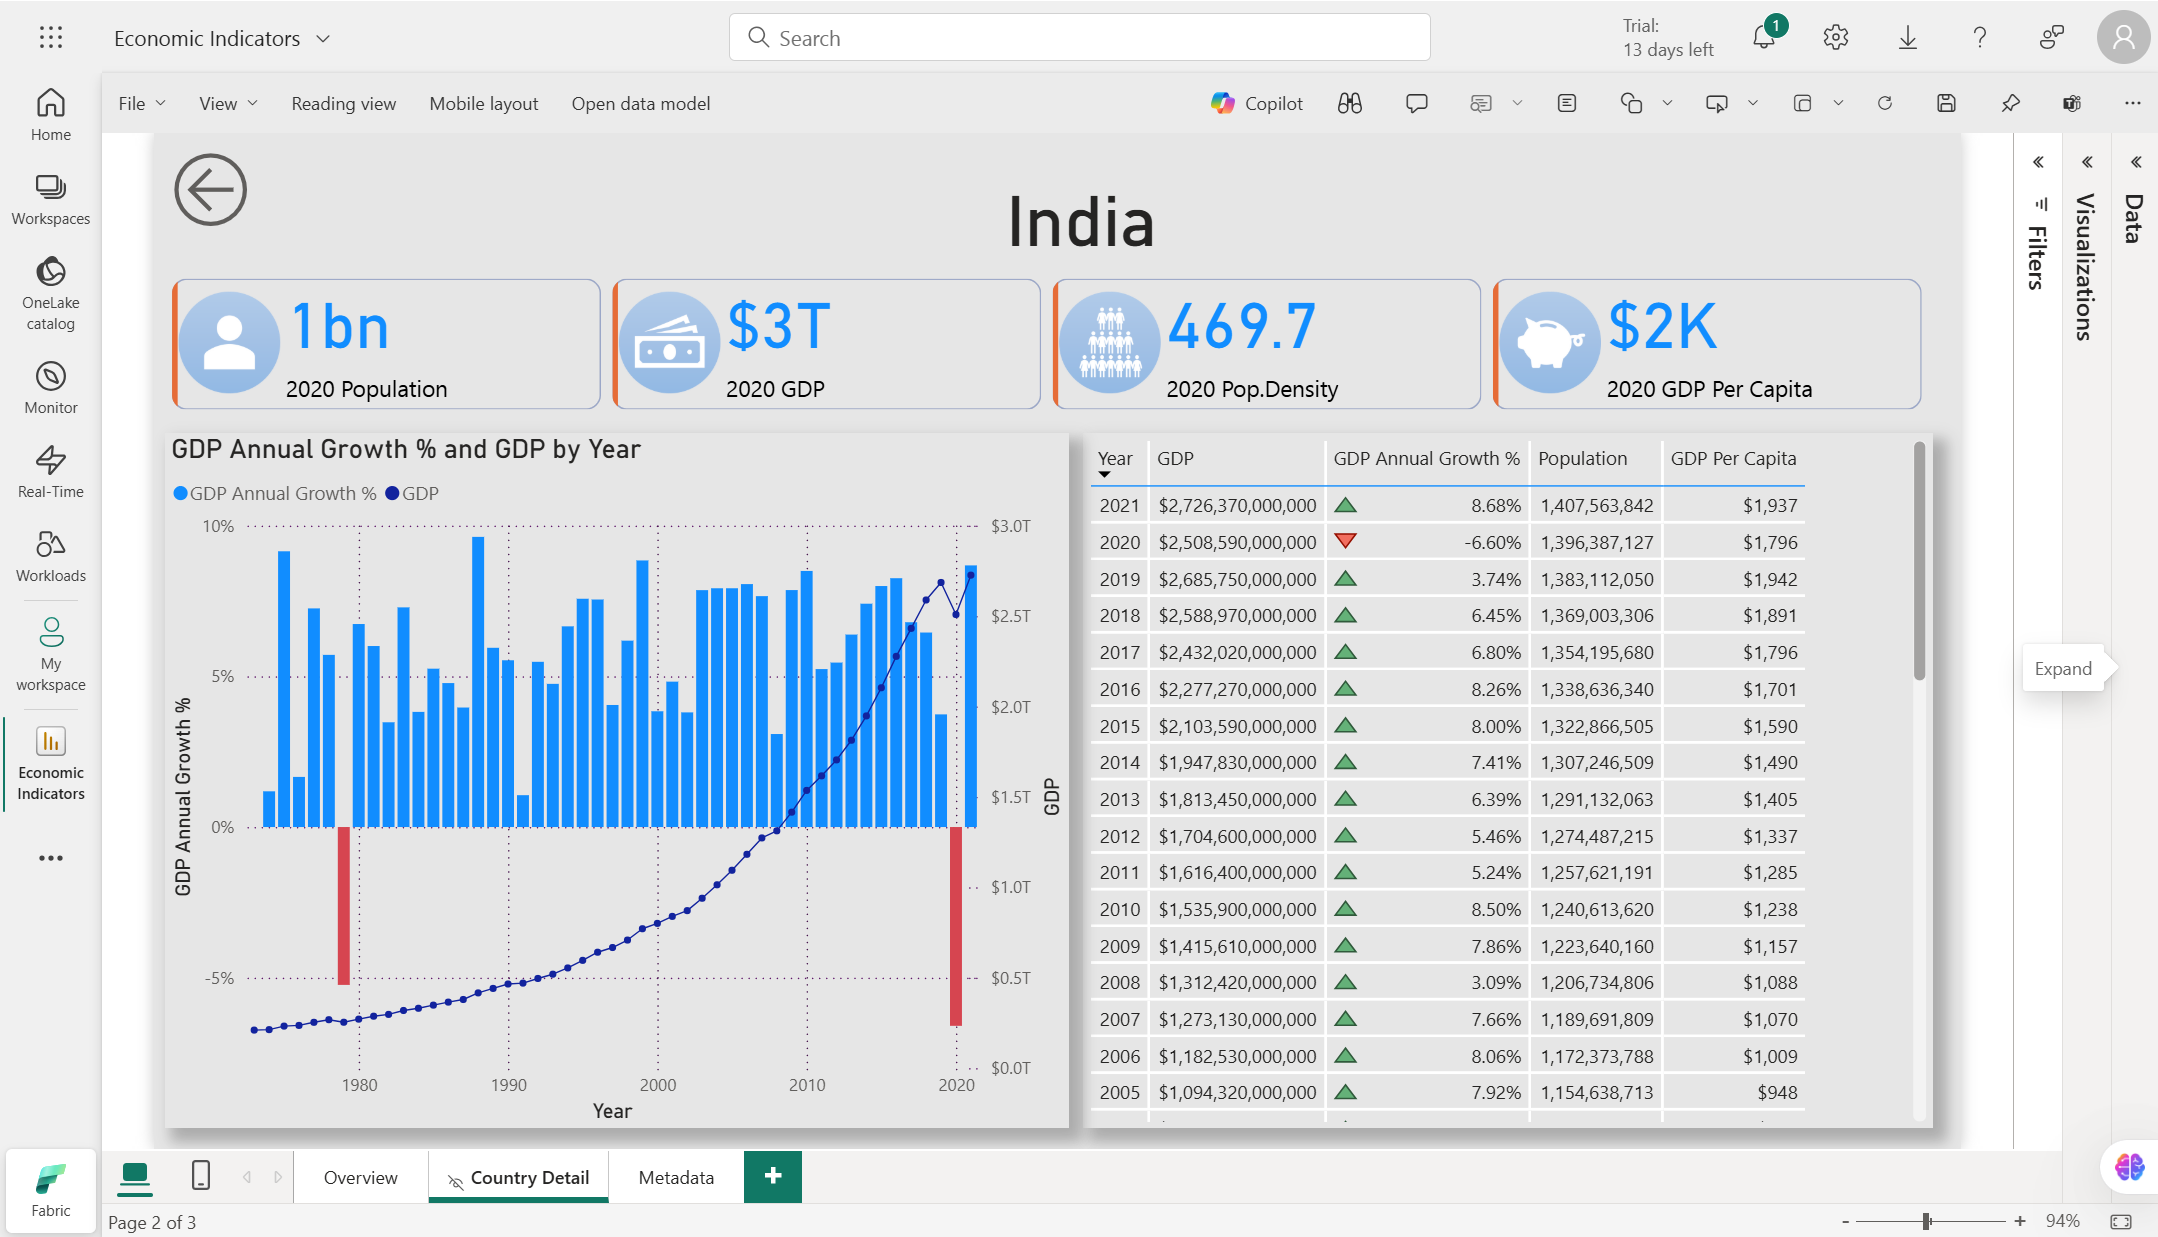

The dashboard page shown, as its layout file describes it:
{"tool":"powerbi","page":{"name":"Country Detail","canvas":[1280,720],"ordinal":1},"visuals":[{"type":"actionButton","box":[7.8,7.8,65.5,65.5],"z":0},{"type":"tableEx","fields":{"Values":["Indicators.Year","_Measures.GDP","_Measures.GDP Annual Growth %","_Measures.Population","_Measures.GDP Per Capita"]},"box":[658,213.1,602.9,492.7],"z":1000},{"type":"lineStackedColumnComboChart","fields":{"Category":["Indicators.Year"],"Y2":["_Measures.GDP"],"Y":["_Measures.GDP Annual Growth %"]},"box":[7.8,213.1,640.4,492.8],"z":2000},{"type":"cardVisual","fields":{"Data":["_Measures.Selected Country"]},"box":[117.6,7.8,1079.9,89.9],"z":3000},{"type":"cardVisual","fields":{"Data":["_Measures.2020 Population","_Measures.2020 GDP","_Measures.2020 Pop.Density","_Measures.2020 GDP Per Capita"]},"box":[7.3,97.7,1253.6,103.9],"z":4000}]}

Visuals, with their boxes on the page's 1280x720 design canvas (x1, y1, x2, y2). These are canvas units, not pixel positions in the 2158x1237 screenshot, which may show the page scaled, cropped or inside an application window:
actionButton: (8,8,73,73)
tableEx - Indicators.Year x _Measures.GDP: (658,213,1261,706)
lineStackedColumnComboChart - Indicators.Year x _Measures.GDP: (8,213,648,706)
cardVisual - _Measures.Selected Country: (118,8,1198,98)
cardVisual - _Measures.2020 Population x _Measures.2020 GDP: (7,98,1261,202)
